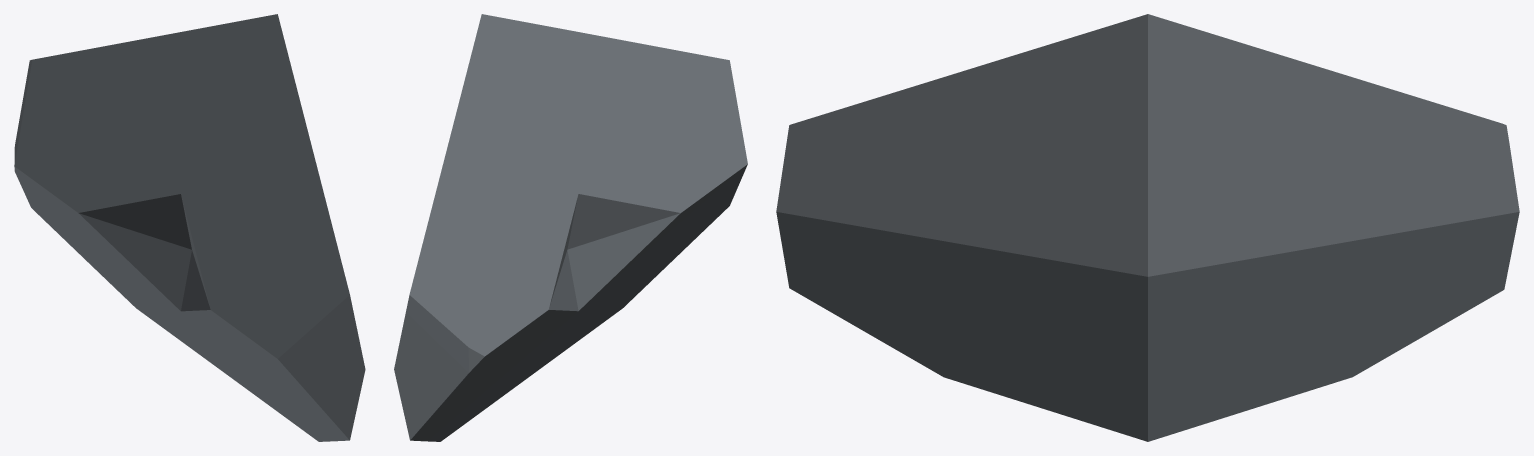
Rendered from Sphere_Fracture_04.DAE.
3 views of the same model, side by side, from view 1: azimuth 30°, elevation 25°; view 2: azimuth 150°, elevation 25°; view 3: azimuth 270°, elevation 25° (orthographic). The views are drawn at different scales.
Visible parts, largest first — view 1: Sphere_Fracture_04; view 2: Sphere_Fracture_04; view 3: Sphere_Fracture_04.
Part boxes in pixels (box(x1,y1,x2,y2)): Sphere_Fracture_04: box(14, 14, 365, 441); Sphere_Fracture_04: box(394, 14, 747, 441); Sphere_Fracture_04: box(776, 14, 1519, 441).
Bounding box in the file's own units: 0.2528 × 0.5238 × 0.8352.
2 materials, 2 textured.
